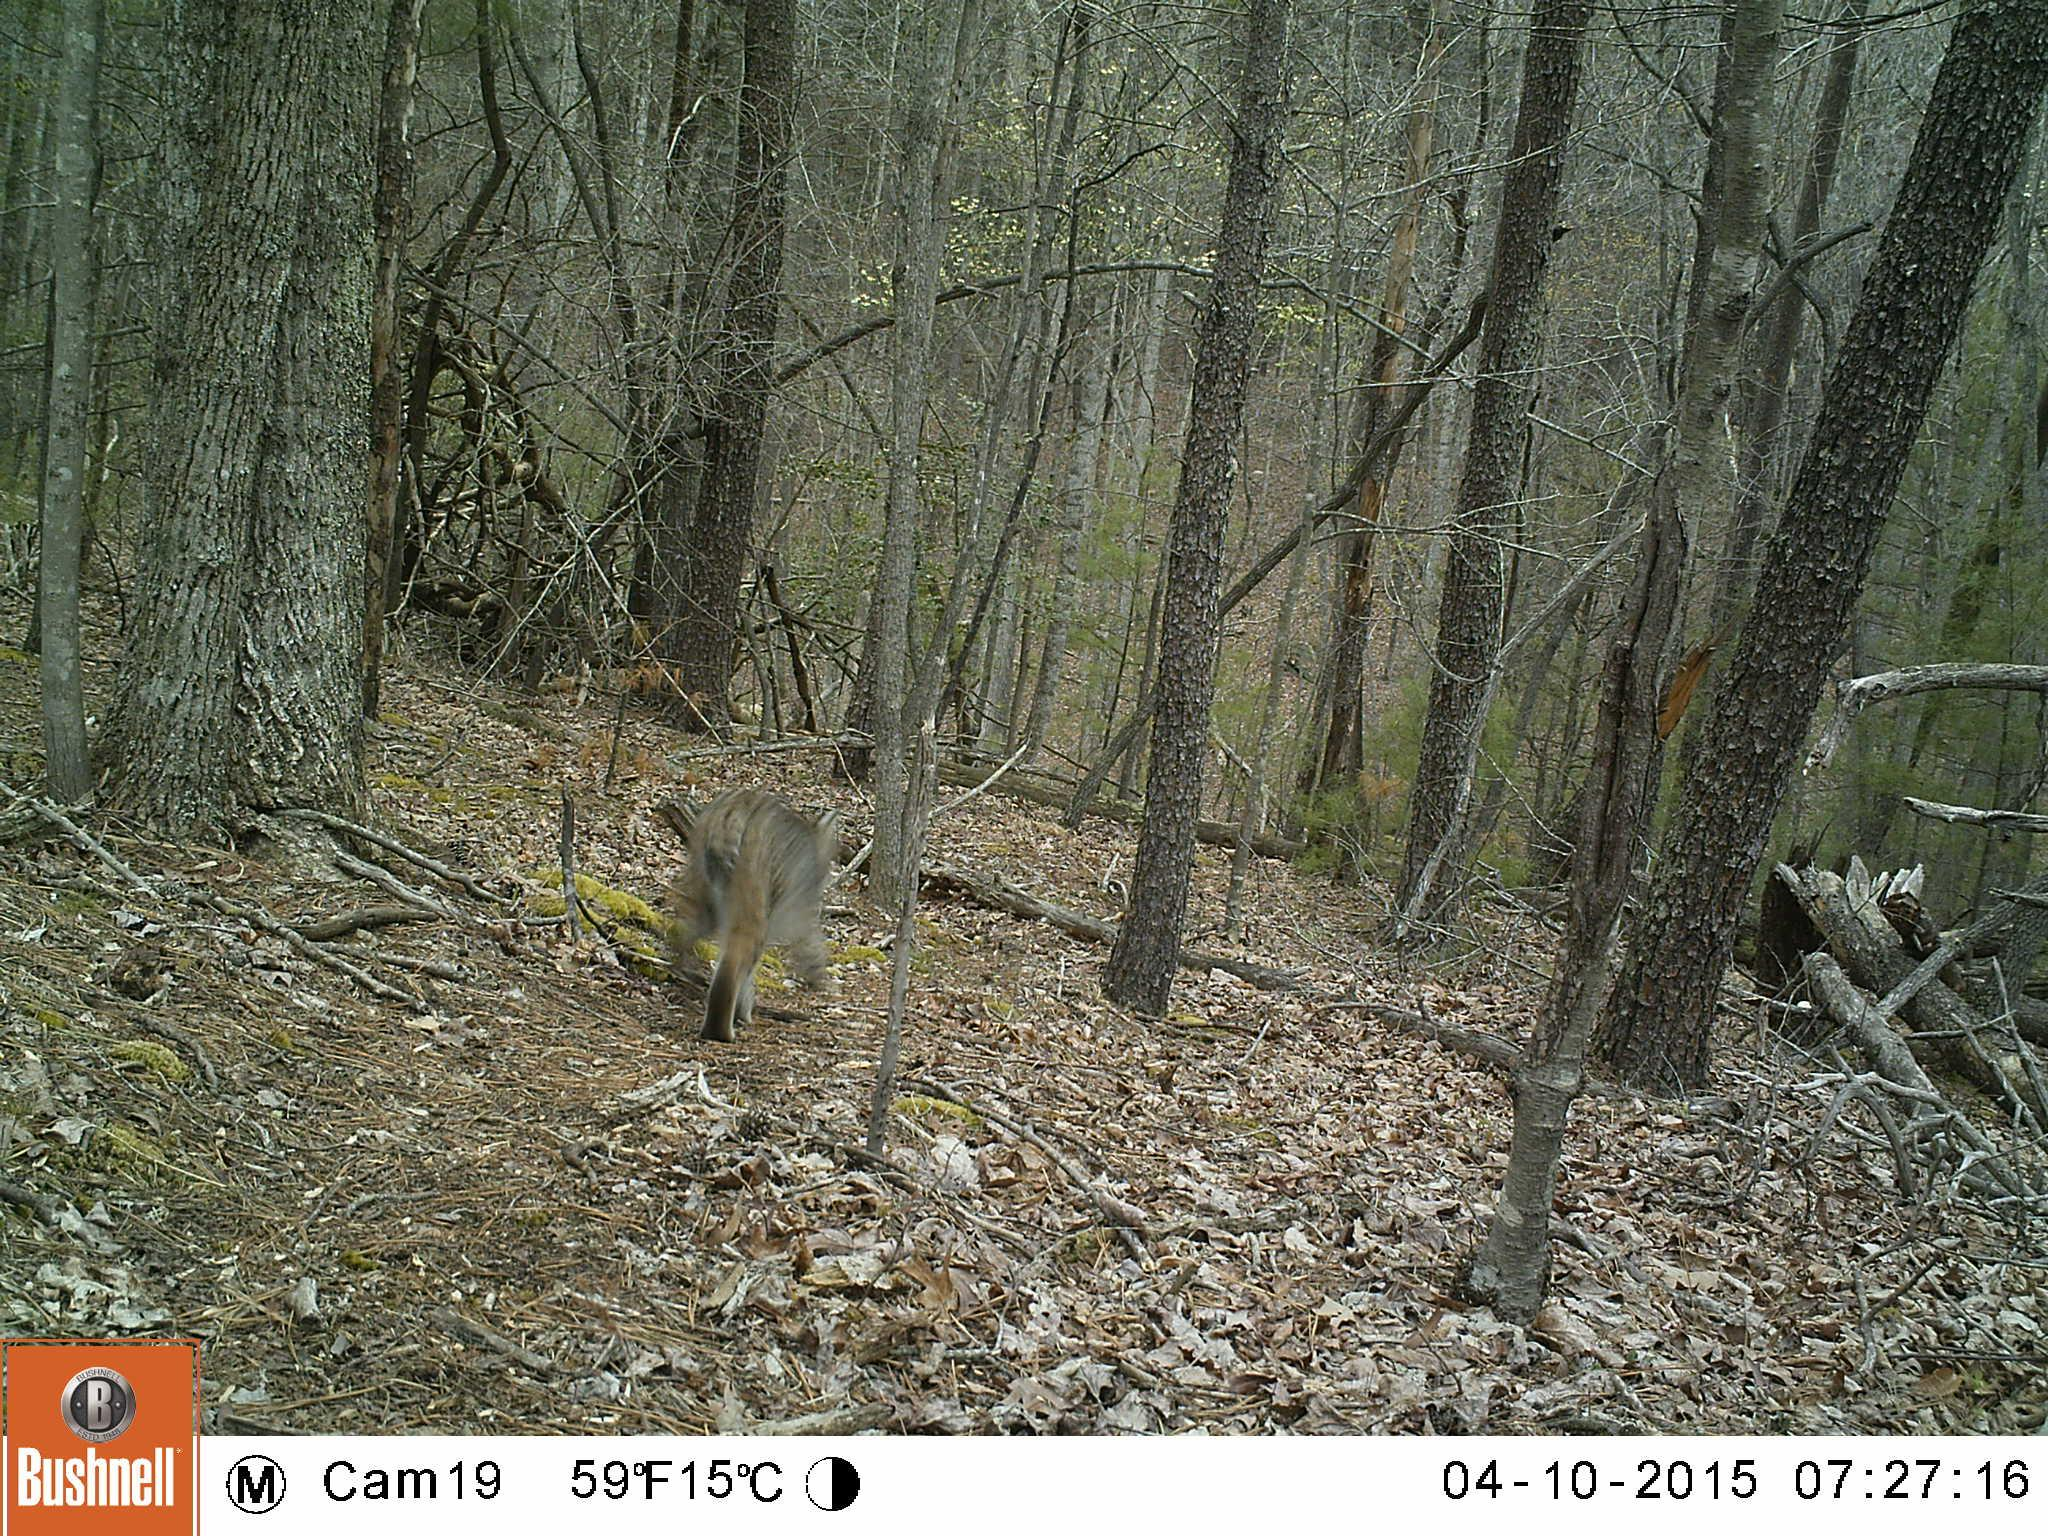Animal: (669, 787, 845, 1042)
